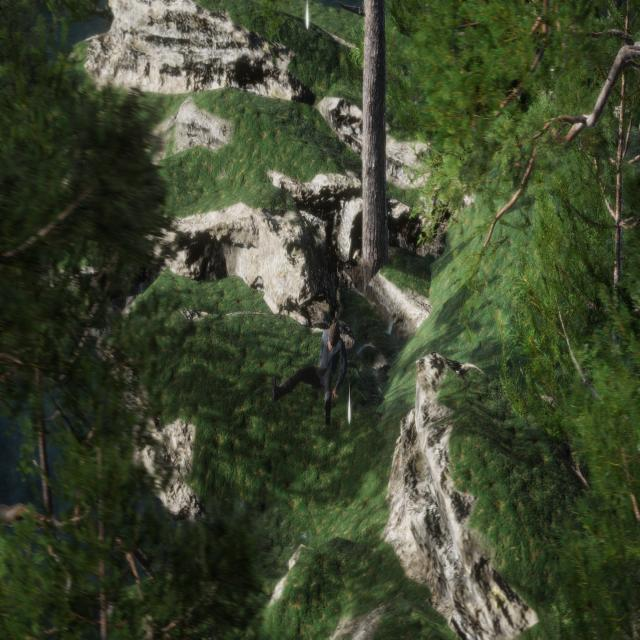Human: (273, 319, 352, 430)
